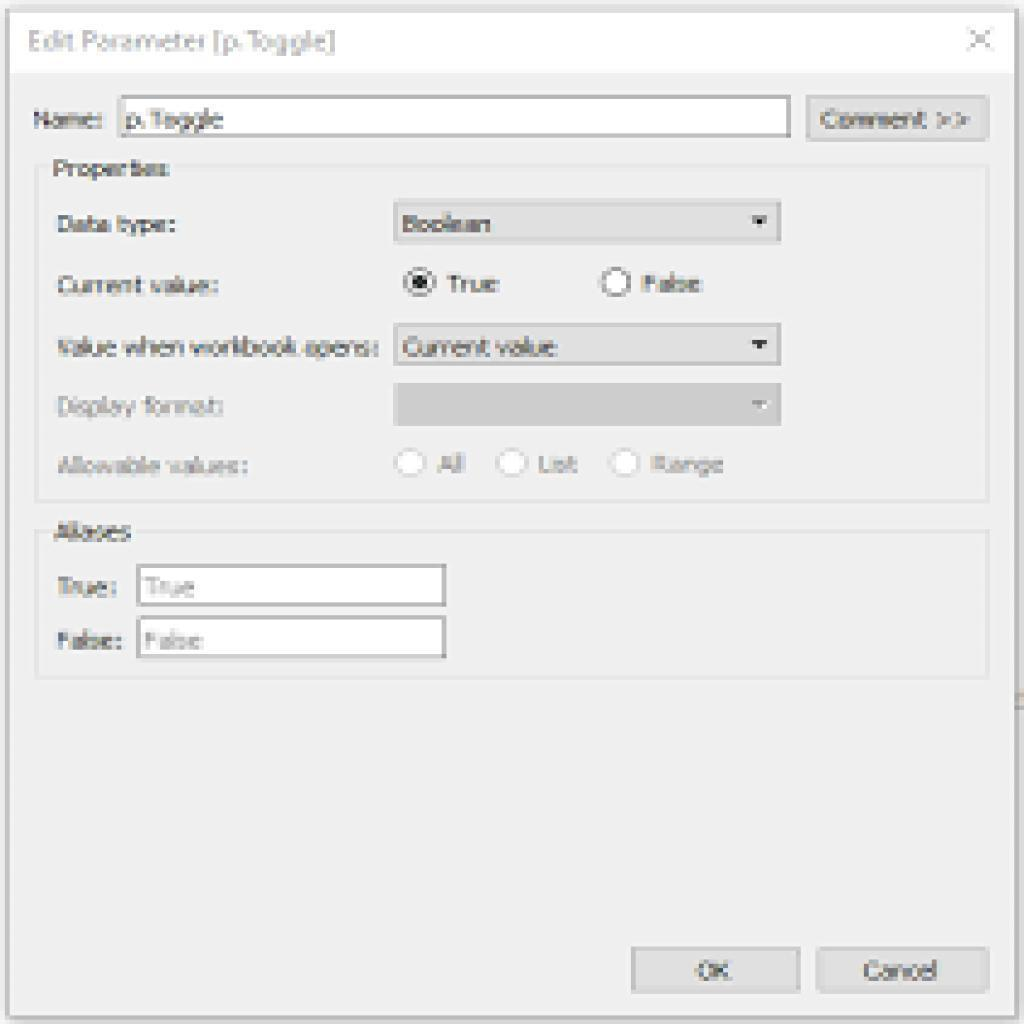button: (631, 947, 801, 996), (808, 97, 990, 141), (818, 948, 991, 994)
dropdown: (397, 200, 780, 248), (392, 323, 782, 370), (397, 383, 782, 429)
input: (121, 95, 792, 139), (137, 620, 446, 661), (135, 567, 446, 606)
label: (52, 334, 385, 364), (54, 452, 250, 490), (58, 392, 240, 427), (57, 265, 229, 302), (49, 153, 177, 185), (55, 210, 188, 240), (651, 448, 730, 486), (25, 107, 109, 136), (54, 518, 139, 546), (54, 627, 127, 658), (447, 268, 511, 302), (57, 574, 122, 606), (640, 271, 709, 296), (534, 447, 586, 480), (438, 448, 471, 483)
radio: (394, 438, 432, 496), (605, 444, 645, 491), (402, 264, 442, 301), (597, 264, 634, 303), (495, 449, 530, 481)
